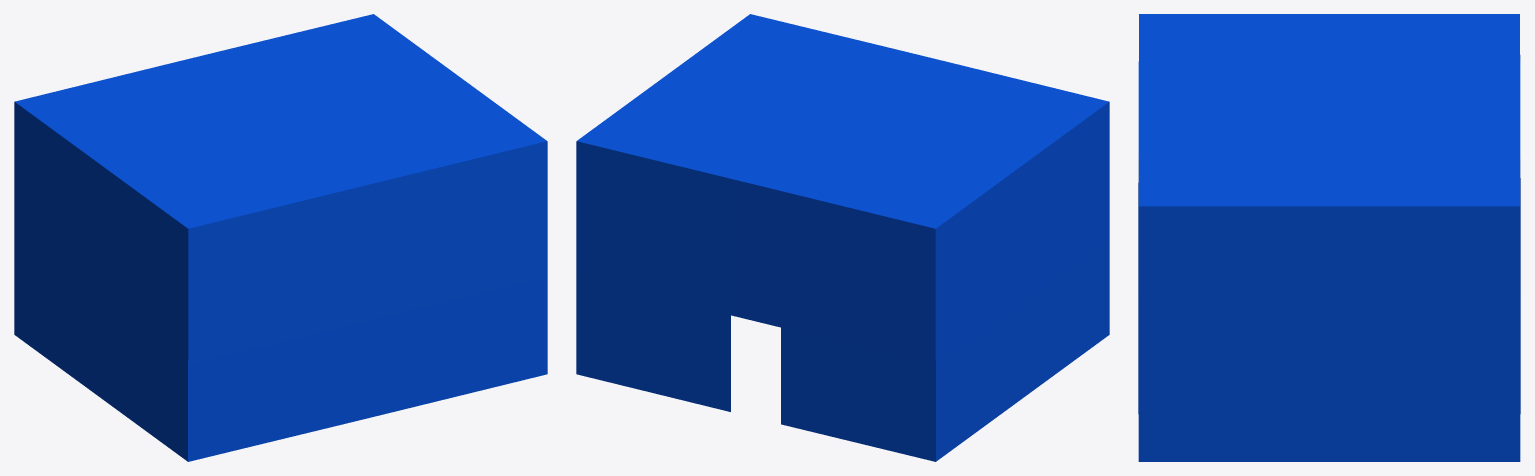
The model's file is 01_Teste Portal_Mask.gltf.
3 renders of one model, left to right at view 1: azimuth 30°, elevation 25°; view 2: azimuth 150°, elevation 25°; view 3: azimuth 270°, elevation 25°, orthographic. The views are drawn at different scales.
Visible parts, largest first — view 1: Mask; view 2: Mask; view 3: Mask.
Boxes of the visible parts, <box> form: Mask: <box>14,14,547,461</box>; Mask: <box>576,14,1109,461</box>; Mask: <box>1138,14,1520,461</box>.
Size of the model in its own units: 8.16 by 5.06 by 6.85.
